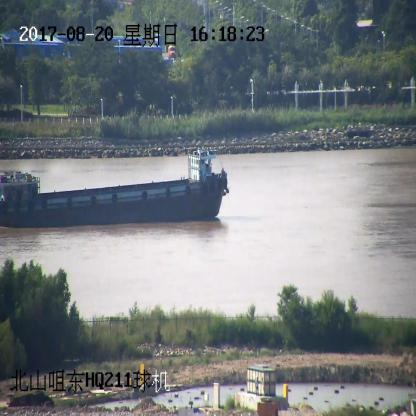Bulk Carrier: (0, 150, 229, 223)
